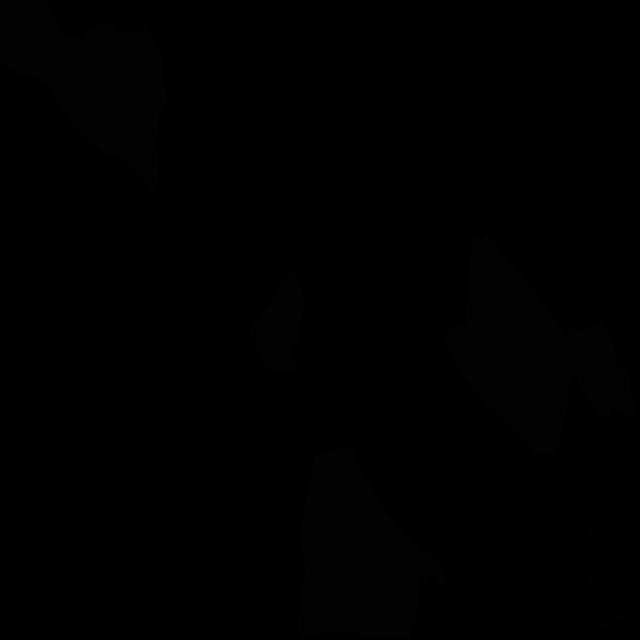cardboard: (442, 233, 574, 456), (298, 444, 448, 639), (566, 321, 638, 421), (249, 269, 304, 374)
rigid_plastic: (549, 517, 640, 640)
